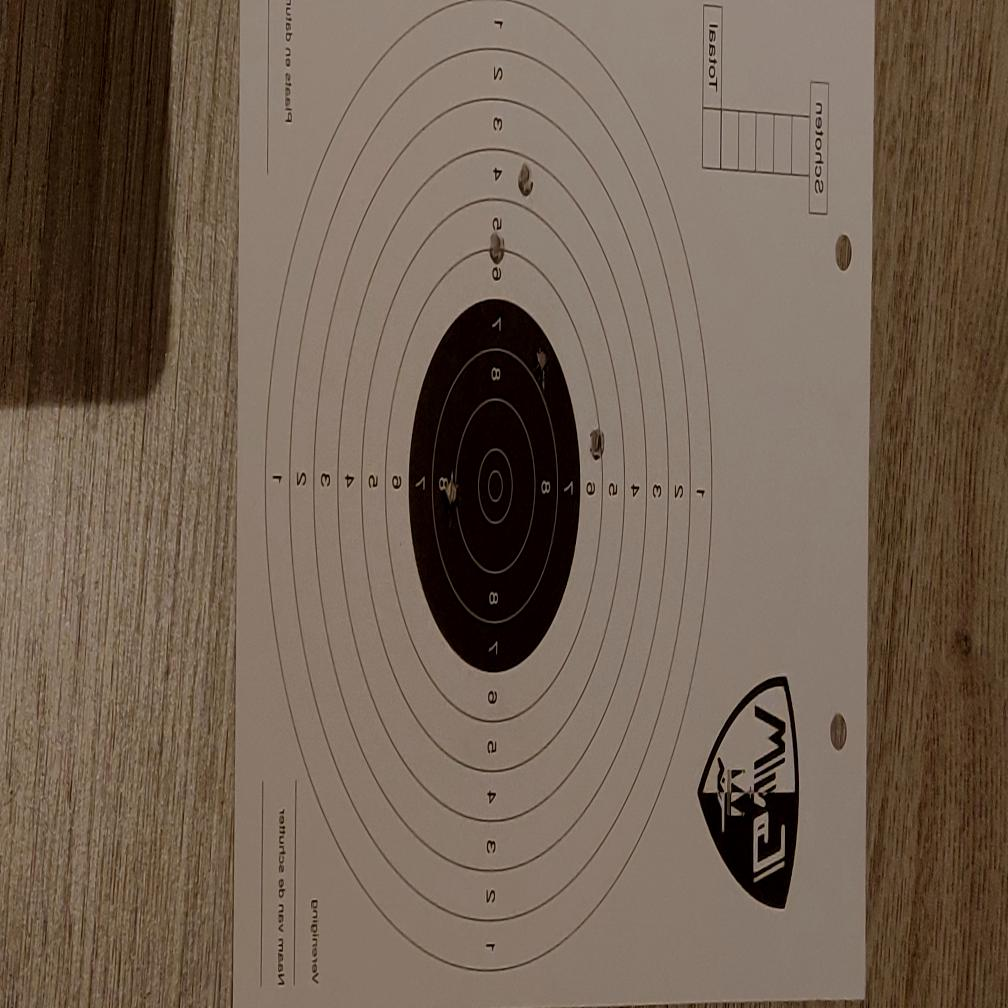4: (515, 156, 536, 204)
6: (487, 224, 506, 270), (588, 426, 606, 462)
7: (534, 343, 551, 390)
9: (442, 470, 461, 521)
Target: (263, 0, 716, 976)
black_contour: (408, 299, 581, 676)
